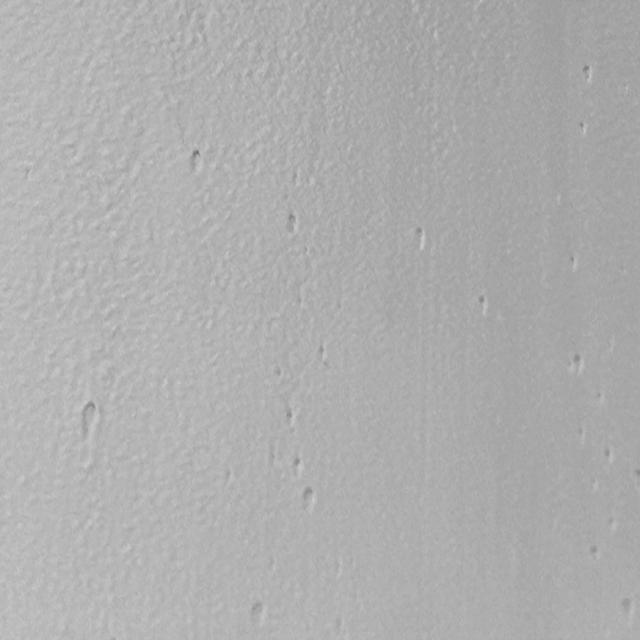pin holes: (78, 401, 102, 438), (246, 597, 268, 628), (566, 352, 588, 380), (410, 224, 431, 253), (617, 596, 637, 626), (185, 150, 205, 178), (299, 488, 319, 515), (473, 292, 492, 318), (283, 212, 301, 238), (313, 344, 331, 367), (289, 456, 306, 480), (566, 252, 582, 276), (579, 63, 596, 85), (600, 444, 616, 466), (604, 514, 620, 535), (284, 407, 298, 430), (587, 544, 603, 563), (577, 120, 589, 138), (271, 365, 285, 380)
